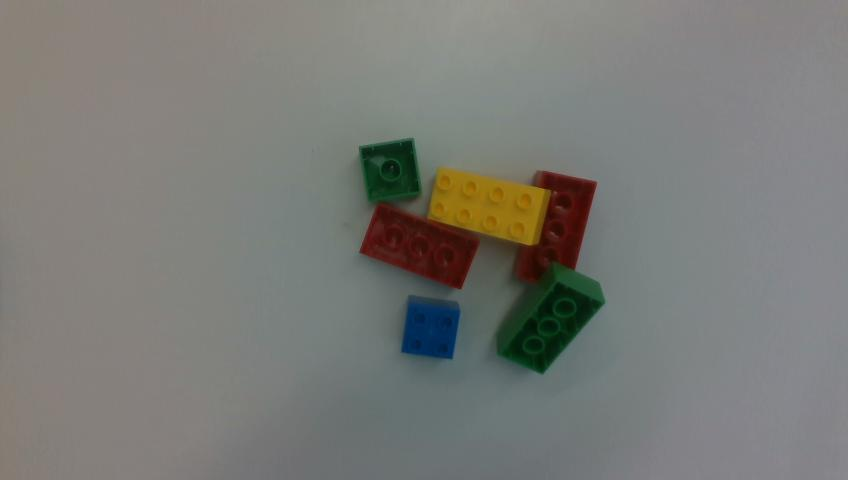2x2_blue: (402, 296, 460, 358)
2x2_green: (360, 138, 420, 201)
4x2_green: (497, 263, 604, 372)
4x2_red: (361, 203, 479, 288), (515, 171, 596, 281)
4x2_yellow: (428, 167, 548, 244)
